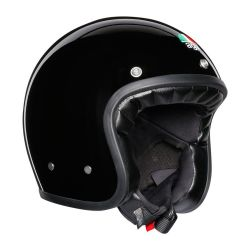with_helmet: (21, 14, 227, 212)
